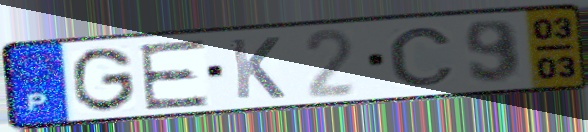2: (302, 27, 359, 102)
9: (462, 17, 524, 86)
C: (385, 25, 459, 88)
E: (136, 36, 212, 112)
G: (71, 44, 138, 114)
K: (227, 35, 288, 102)
